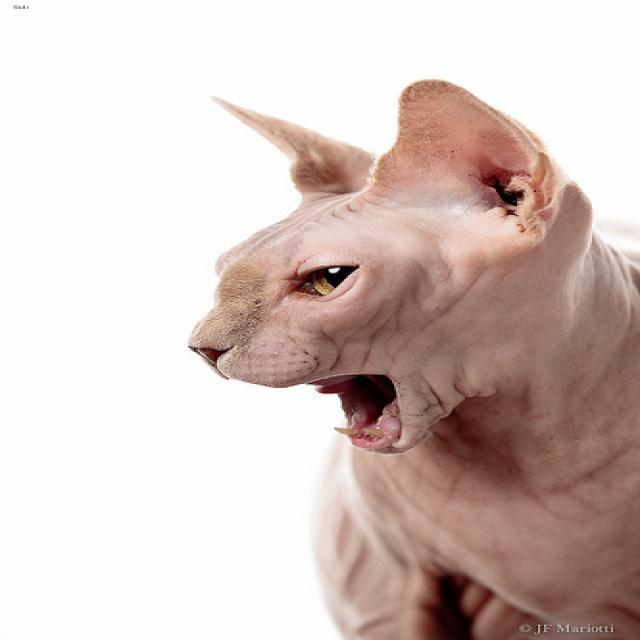Sphynx: (170, 75, 596, 456)
